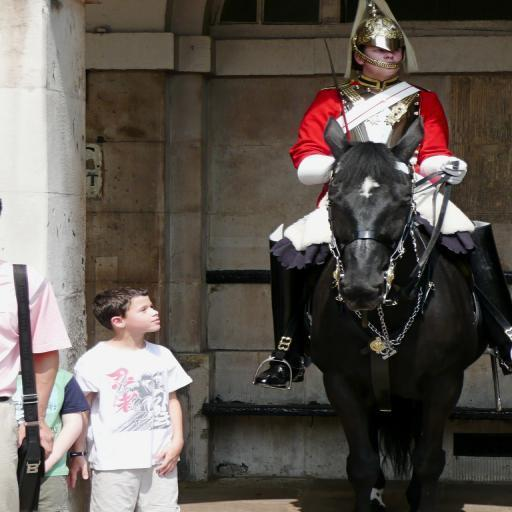horse: (302, 118, 488, 510)
